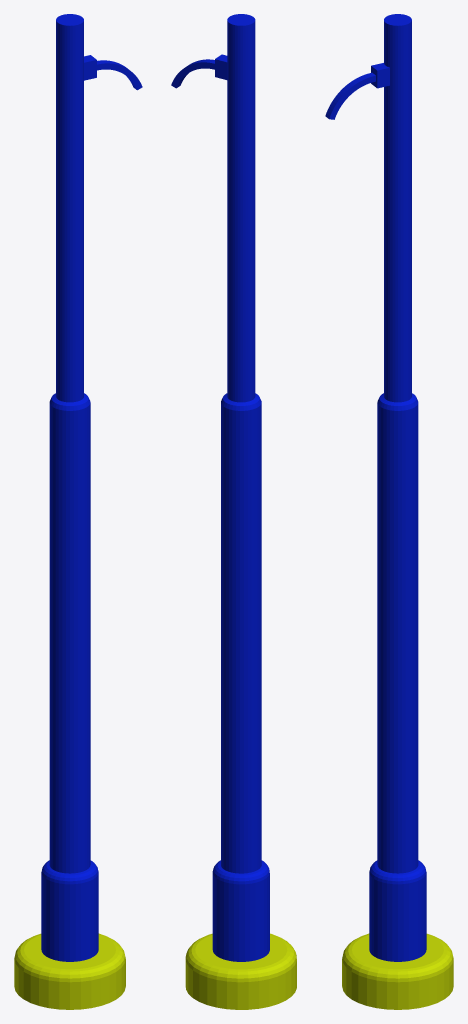
File: sloup3.fbx
The picture shows the model from 3 angles, left to right: view 1: azimuth 90°, elevation 25°; view 2: azimuth 210°, elevation 25°; view 3: azimuth 270°, elevation 25°; orthographic projection.
Visible parts, largest first — view 1: sloup3; view 2: sloup3; view 3: sloup3.
Part boxes in pixels (x1=…): sloup3: x1=14, y1=14, x2=142, y2=1009; sloup3: x1=171, y1=14, x2=296, y2=1009; sloup3: x1=325, y1=14, x2=453, y2=1009.
Bounding box in the file's own units: 36 × 344 × 41.44.
